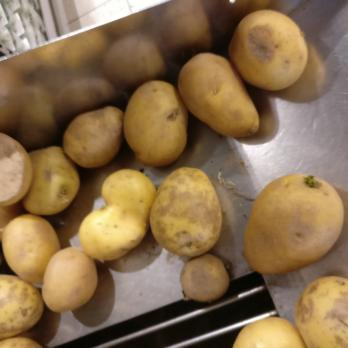Solid potato: (0, 126, 151, 311), (240, 172, 342, 276), (233, 276, 348, 348), (229, 10, 310, 91)
